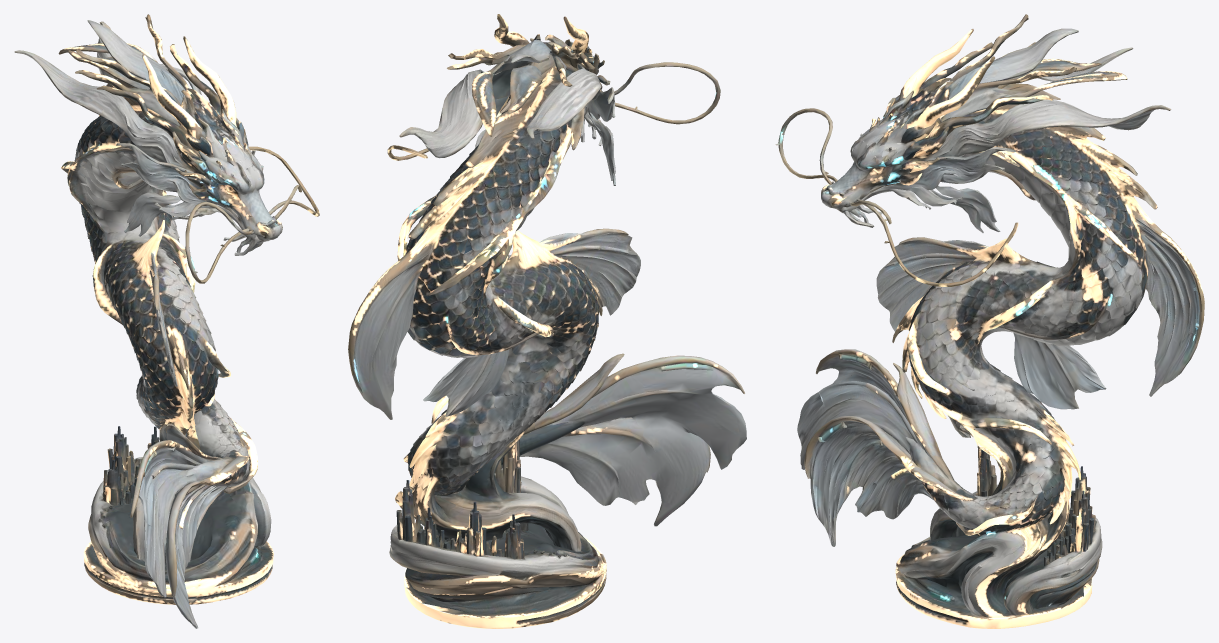
File: koi_dragon.glb
3 views of the same model, side by side, from view 1: azimuth 30°, elevation 25°; view 2: azimuth 150°, elevation 25°; view 3: azimuth 270°, elevation 25° (orthographic). The views are drawn at different scales.
Parts seen in each view (by area): view 1: koi_dragon; view 2: koi_dragon; view 3: koi_dragon.
Part boxes in pixels (box(x1,y1,x2,y2)): koi_dragon: box(14, 14, 319, 628); koi_dragon: box(348, 14, 746, 628); koi_dragon: box(775, 14, 1204, 628).
Size of the model in its own units: 29.41 by 59.97 by 43.39.
1 material, 1 textured.
